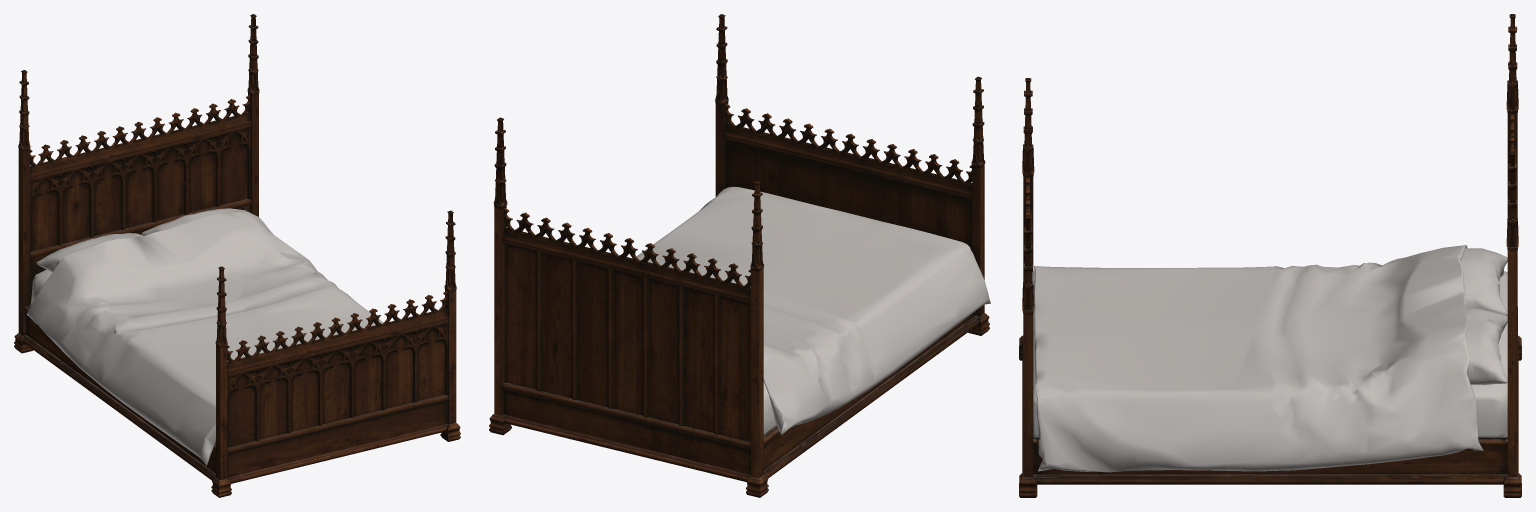
Rendered from gothic_bed_01_4k-v1.glb.
3 views of the same model, side by side, from view 1: azimuth 30°, elevation 25°; view 2: azimuth 150°, elevation 25°; view 3: azimuth 270°, elevation 25° (orthographic). The views are drawn at different scales.
Parts seen in each view (by area): view 1: GothicBed_01; view 2: GothicBed_01; view 3: GothicBed_01.
Boxes of the visible parts, x1=… form: GothicBed_01: x1=14, y1=14, x2=460, y2=497; GothicBed_01: x1=489, y1=14, x2=990, y2=497; GothicBed_01: x1=1019, y1=14, x2=1521, y2=497.
Size of the model in its own units: 1.49 by 1.53 by 2.04.
Materials: 1 (1 with a texture image).
